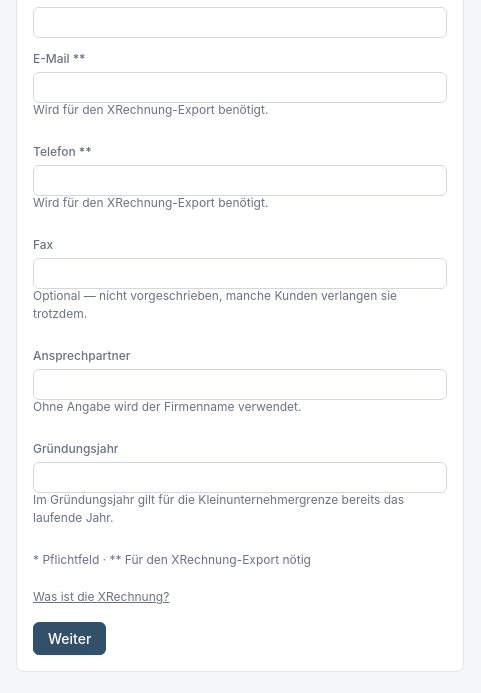
Test case: Einrichtung › prüft die Angaben schon nach dem ersten Schritt
(page scrolled)
Click the button "Weiter" at point(70, 638), box x1=33 y1=622 x2=106 y2=655
(page scrolled)
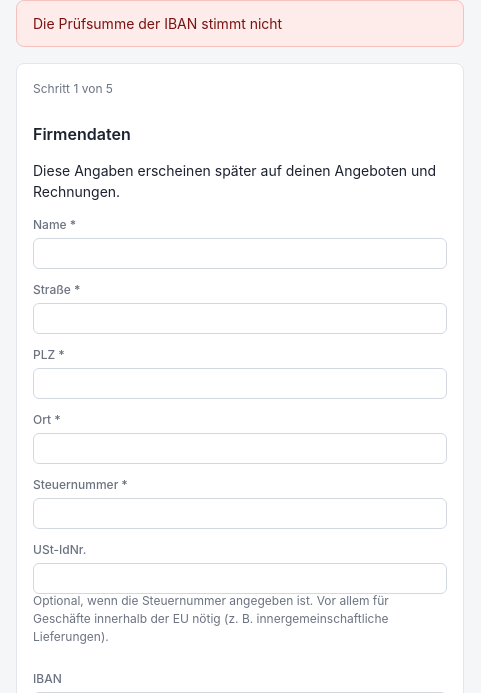
Expected: the text "Schritt 1 von 5" is shown, x1=33 y1=81 x2=113 y2=96
Expected: the text "Die Prüfsumme der IBAN stimmt nicht" is shown, x1=16 y1=0 x2=464 y2=47
